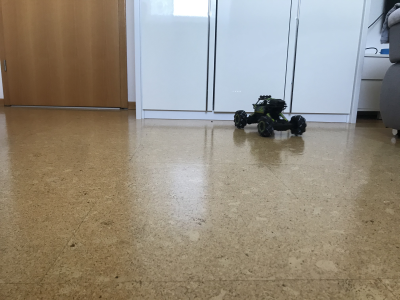remote control car: (232, 93, 309, 139)
